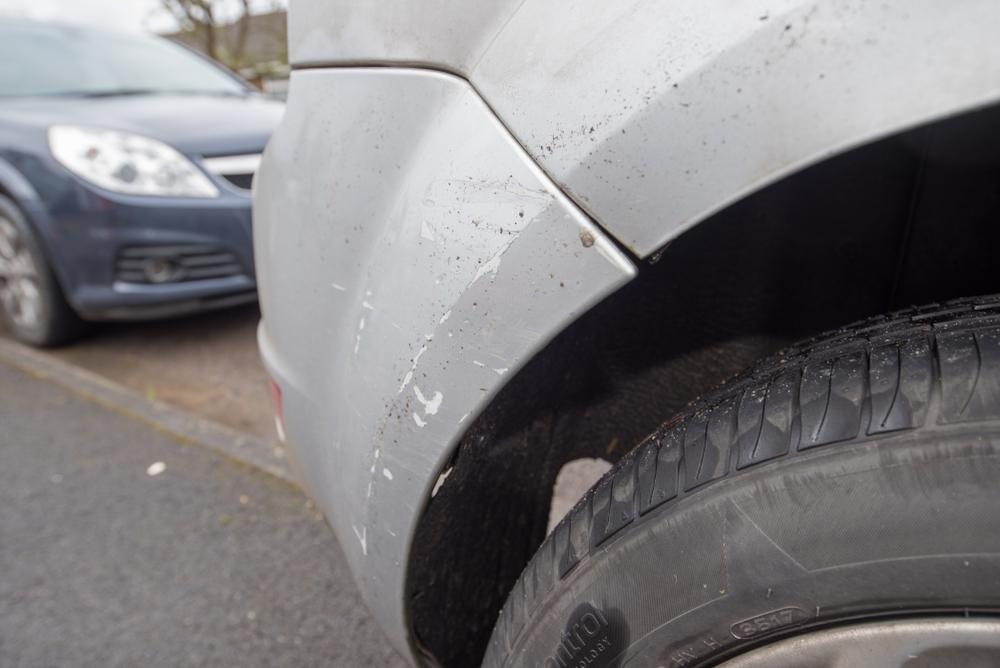scratch: (342, 165, 552, 554)
